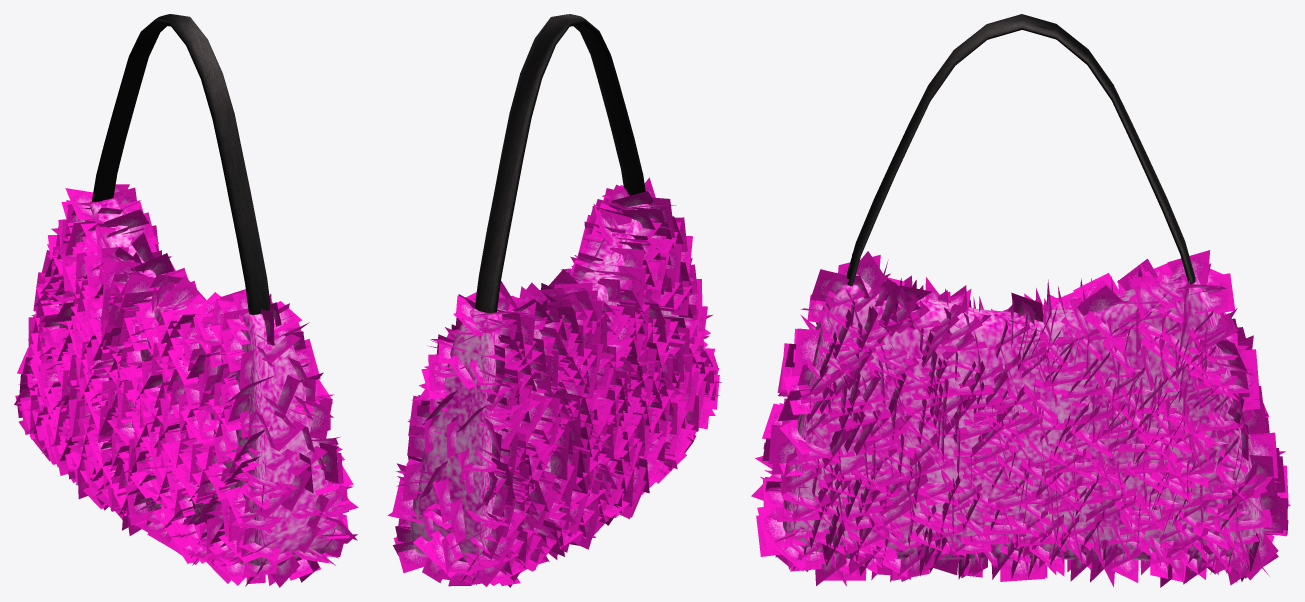
The model's file is fur.fbx.
3 views of the same model, side by side, from view 1: azimuth 30°, elevation 25°; view 2: azimuth 150°, elevation 25°; view 3: azimuth 270°, elevation 25° (orthographic). The views are drawn at different scales.
Parts seen in each view (by area): view 1: faux fur pink; view 2: faux fur pink; view 3: faux fur pink.
Boxes of the visible parts, box(x1,y1,x2,y2) form: faux fur pink: box(14, 14, 358, 587); faux fur pink: box(388, 14, 721, 587); faux fur pink: box(751, 14, 1290, 587).
Bounding box in the file's own units: 49.1 × 169 × 149.
Materials: 1 (1 with a texture image).
